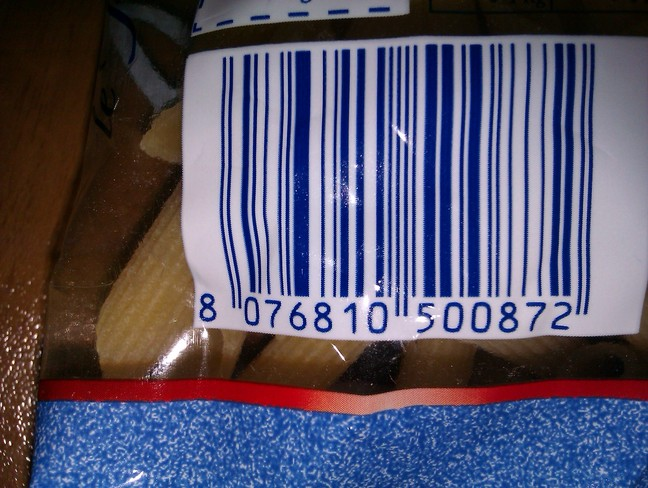barcode: (182, 48, 606, 340)
